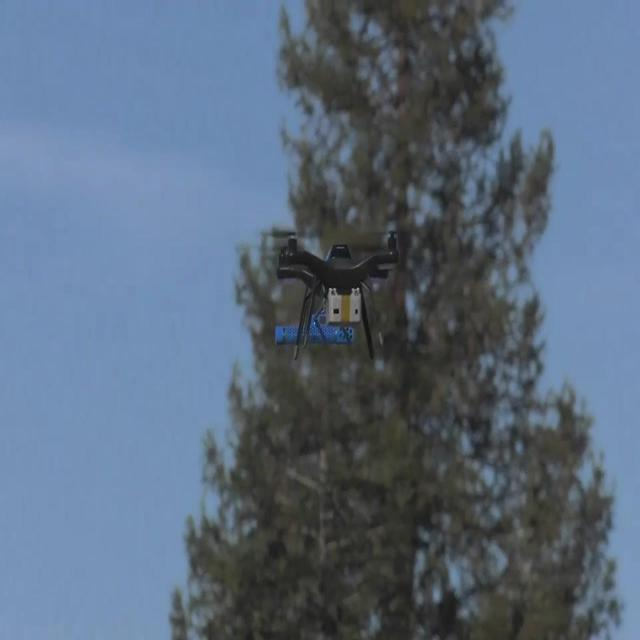UAV: (270, 230, 402, 360)
